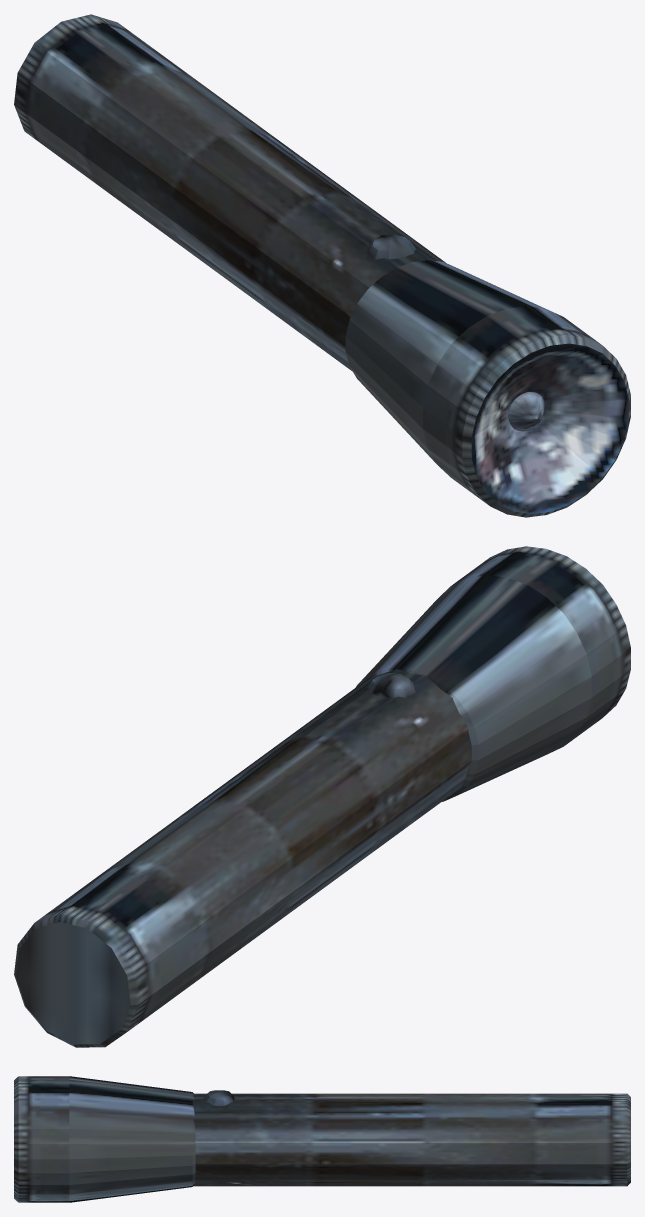
File: flashlight.obj
The picture shows the model from 3 angles, top to bottom: view 1: azimuth 30°, elevation 25°; view 2: azimuth 150°, elevation 25°; view 3: azimuth 270°, elevation 25°; orthographic projection. The views are drawn at different scales.
Parts seen in each view (by area): view 1: flashlight; view 2: flashlight; view 3: flashlight.
Part boxes in pixels (left/top/right/bottom): flashlight: left=14, top=14, right=630, bottom=517; flashlight: left=14, top=546, right=630, bottom=1047; flashlight: left=14, top=1076, right=630, bottom=1202.
Size of the model in its own units: 0.1038 by 0.1044 by 0.508.
